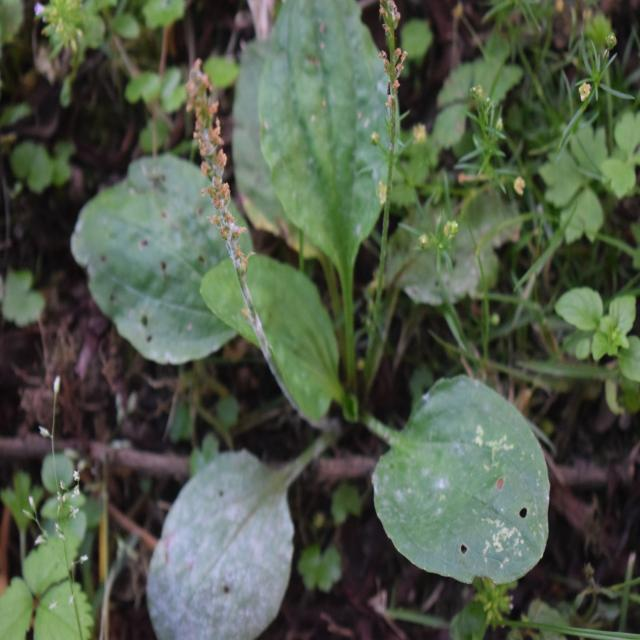plantain: (106, 40, 534, 599)
